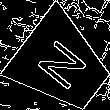N_SE: (31, 34, 94, 96)
